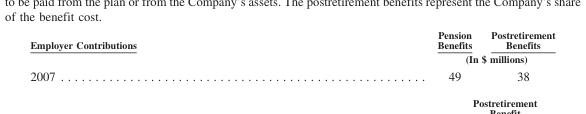table: (29, 28, 554, 82)
table column: (29, 28, 286, 82), (286, 28, 480, 82), (480, 28, 554, 82)
table column header: (29, 28, 554, 66)
table row: (29, 28, 554, 51), (29, 66, 554, 82), (29, 51, 554, 66)
table spanning cell: (29, 28, 286, 66), (286, 51, 554, 66)
